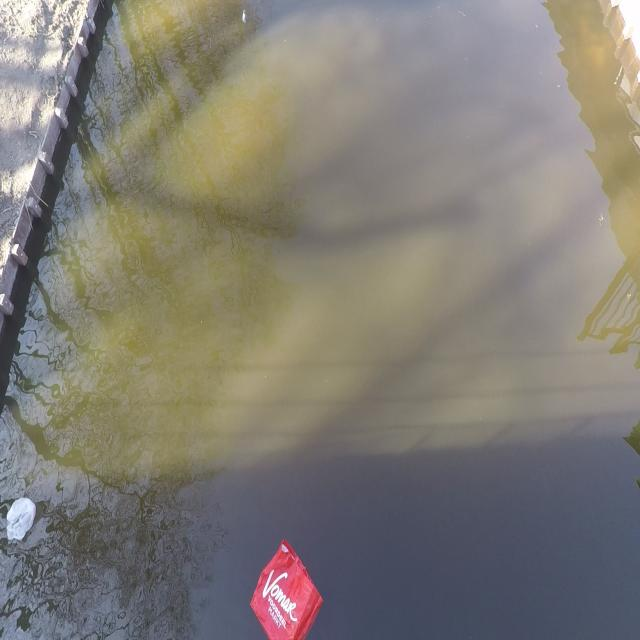Sac plastique: (242, 526, 326, 640), (0, 488, 39, 552)
